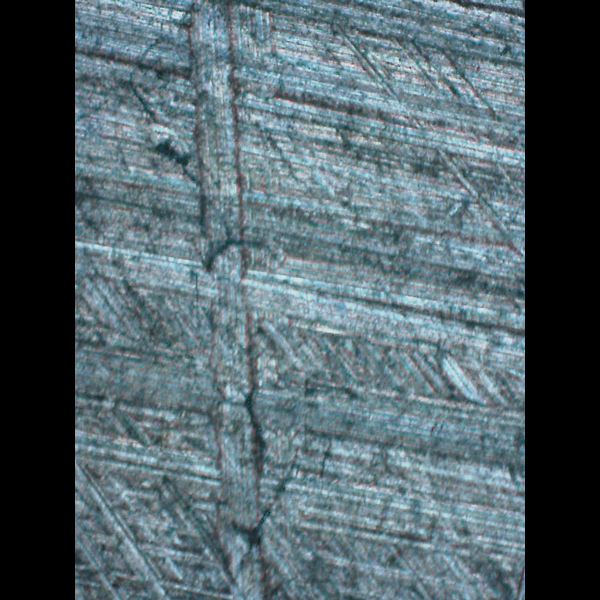d: (124, 0, 278, 599), (324, 0, 524, 263)
